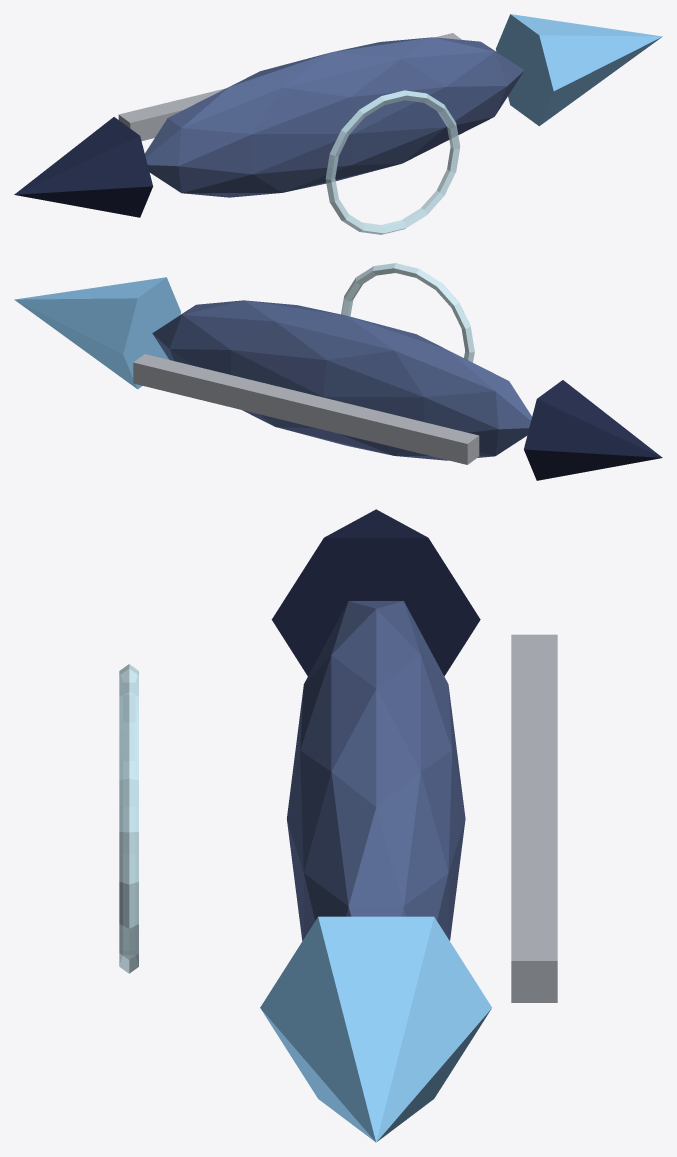
The model's file is 05_skyship_hull.glb.
The picture shows the model from 3 angles, top to bottom: view 1: azimuth 30°, elevation 25°; view 2: azimuth 150°, elevation 25°; view 3: azimuth 270°, elevation 25°; orthographic projection. The views are drawn at different scales.
Parts seen in each view (by area): view 1: hull_low_poly, bow_upgrade, stern_fin, size_class_ring, keel_plate; view 2: hull_low_poly, keel_plate, bow_upgrade, stern_fin, size_class_ring; view 3: hull_low_poly, bow_upgrade, keel_plate, stern_fin, size_class_ring.
Boxes of the visible parts, x1,y1,x2,y2 form: hull_low_poly: (145,37,524,197); bow_upgrade: (496,14,662,126); stern_fin: (14,117,153,217); size_class_ring: (325,90,460,234); keel_plate: (118,33,461,140); hull_low_poly: (152,300,531,460); keel_plate: (133,354,479,464); bow_upgrade: (14,277,180,389); stern_fin: (524,380,662,480); size_class_ring: (341,263,474,362); hull_low_poly: (287,601,465,940); bow_upgrade: (260,916,491,1142); keel_plate: (511,634,557,1002); stern_fin: (271,509,480,675); size_class_ring: (119,664,138,973).
Size of the model in its own units: 2.84 by 0.5806 by 0.8308.
